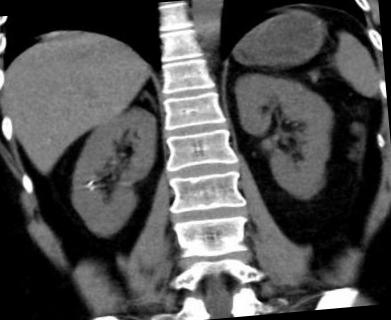Tas_Var: (86, 178, 94, 188), (88, 186, 96, 192)
